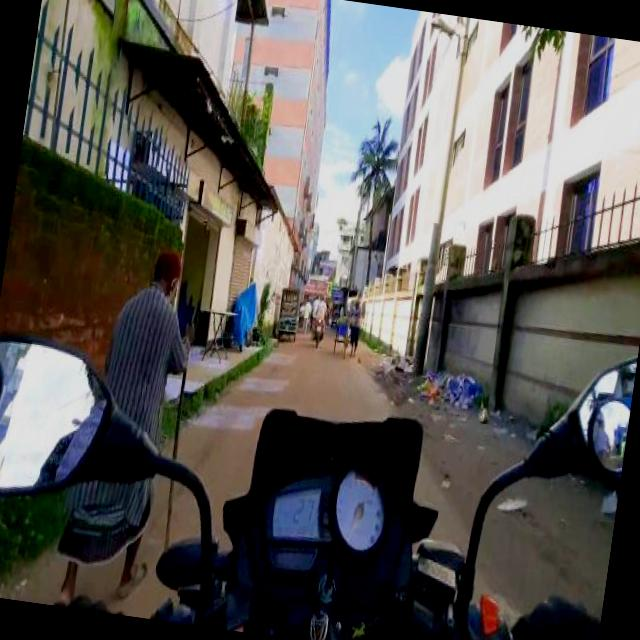motorcycle: (0, 321, 620, 640), (275, 286, 302, 342), (311, 291, 329, 347), (329, 297, 342, 326)
